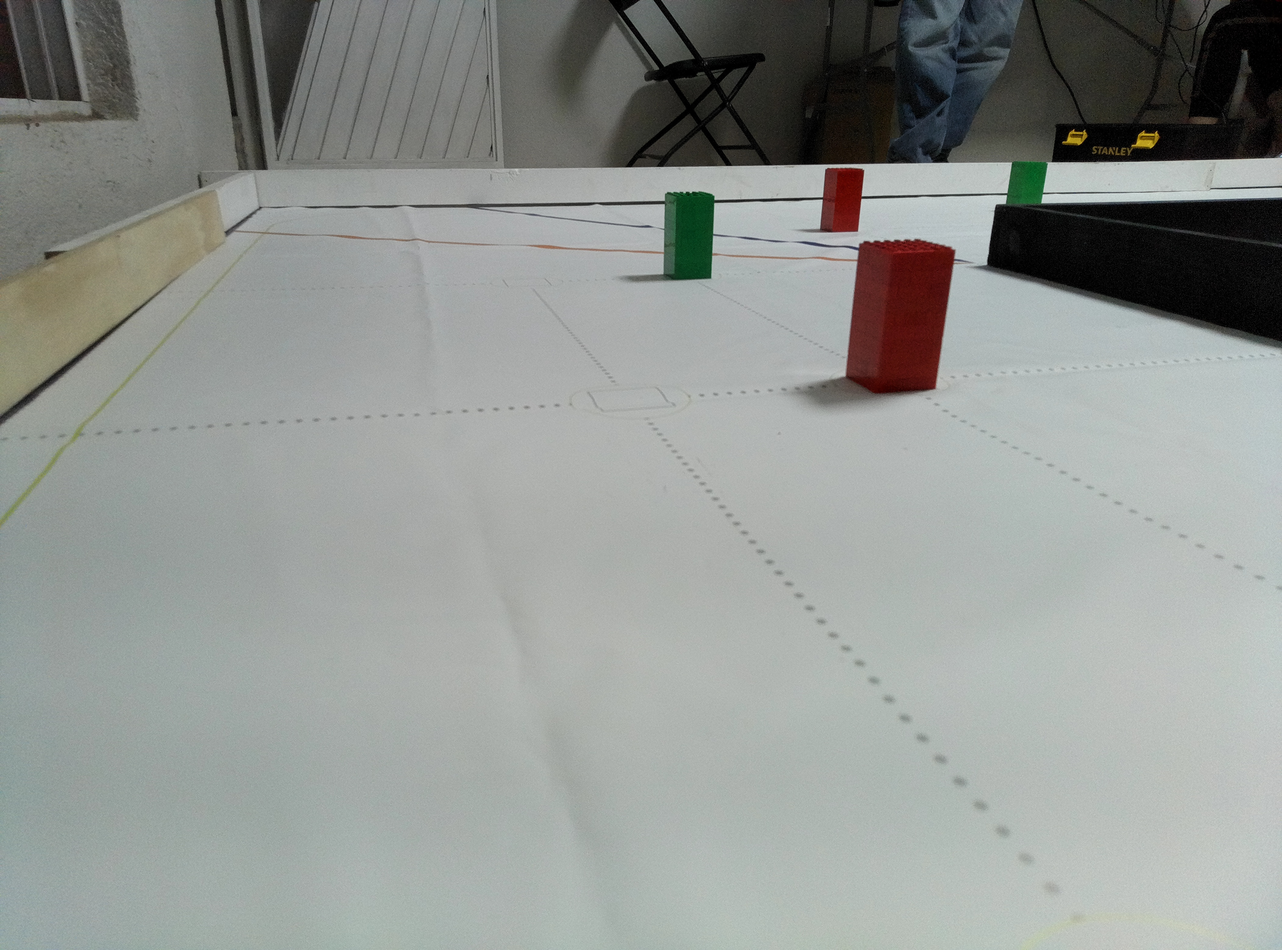greenbox: (662, 189, 715, 282), (1004, 159, 1049, 209)
redbox: (844, 238, 956, 396), (818, 166, 866, 234)
